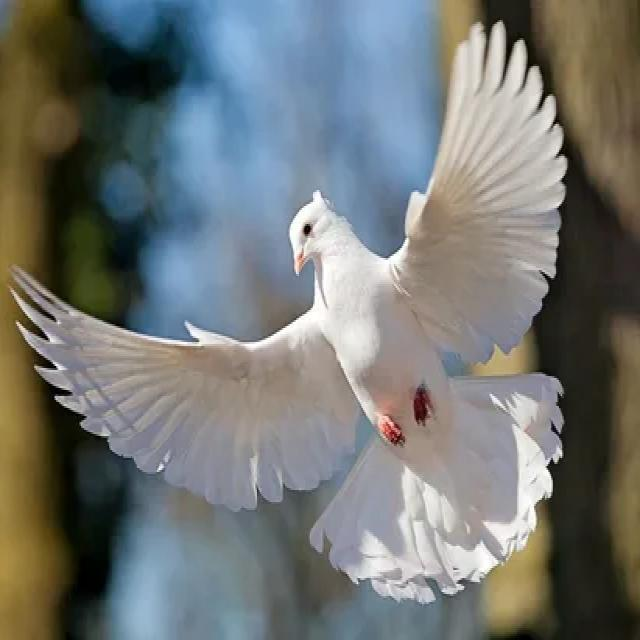pigeon: (10, 25, 577, 607)
